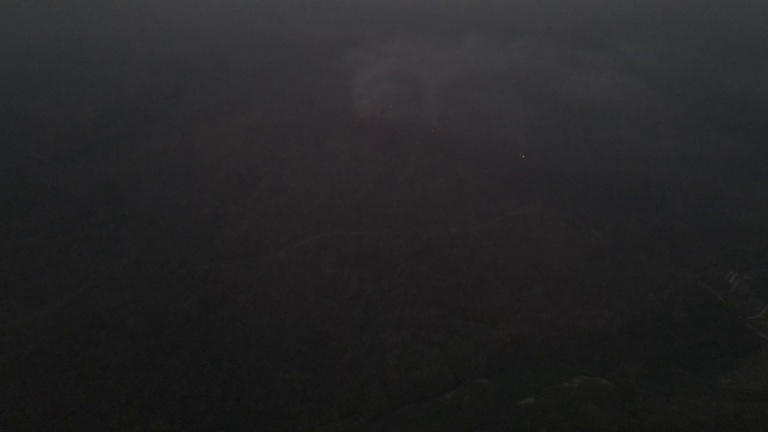fire: (519, 152, 529, 162)
smoke: (344, 11, 608, 136)
